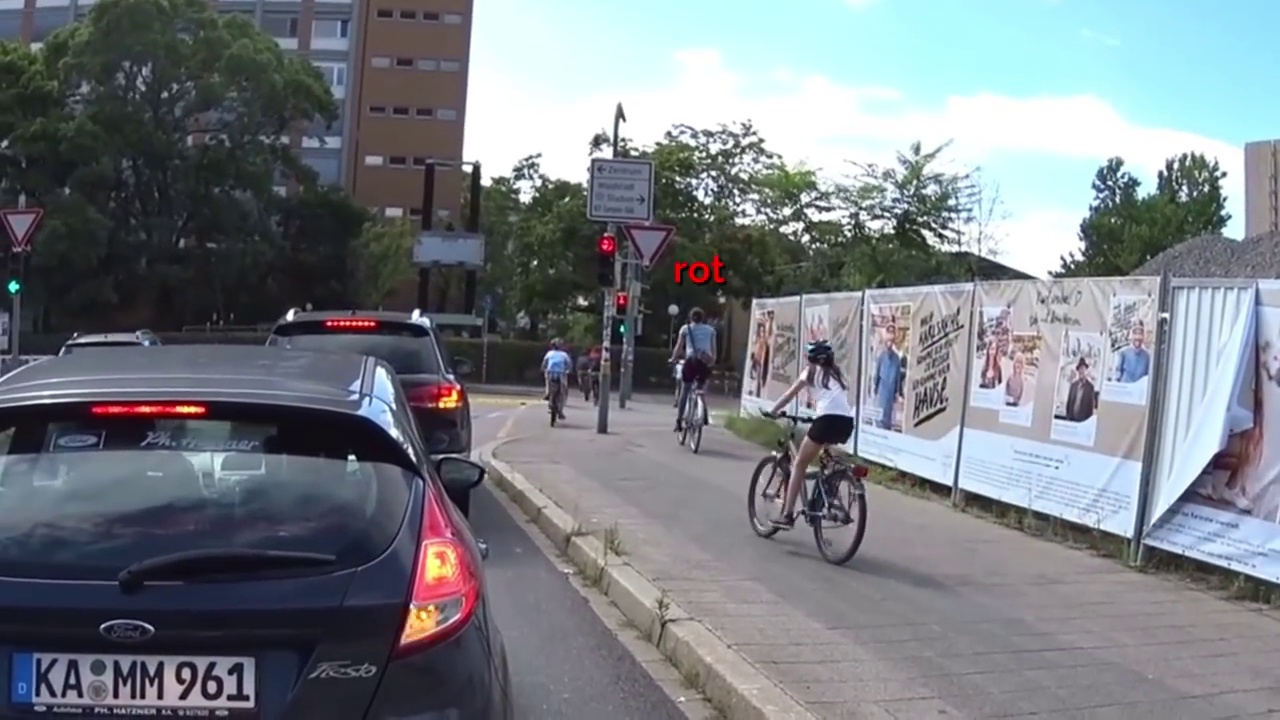cyclist_back: (660, 305, 718, 461), (531, 327, 575, 433)
cyclist_side: (734, 332, 885, 572)
